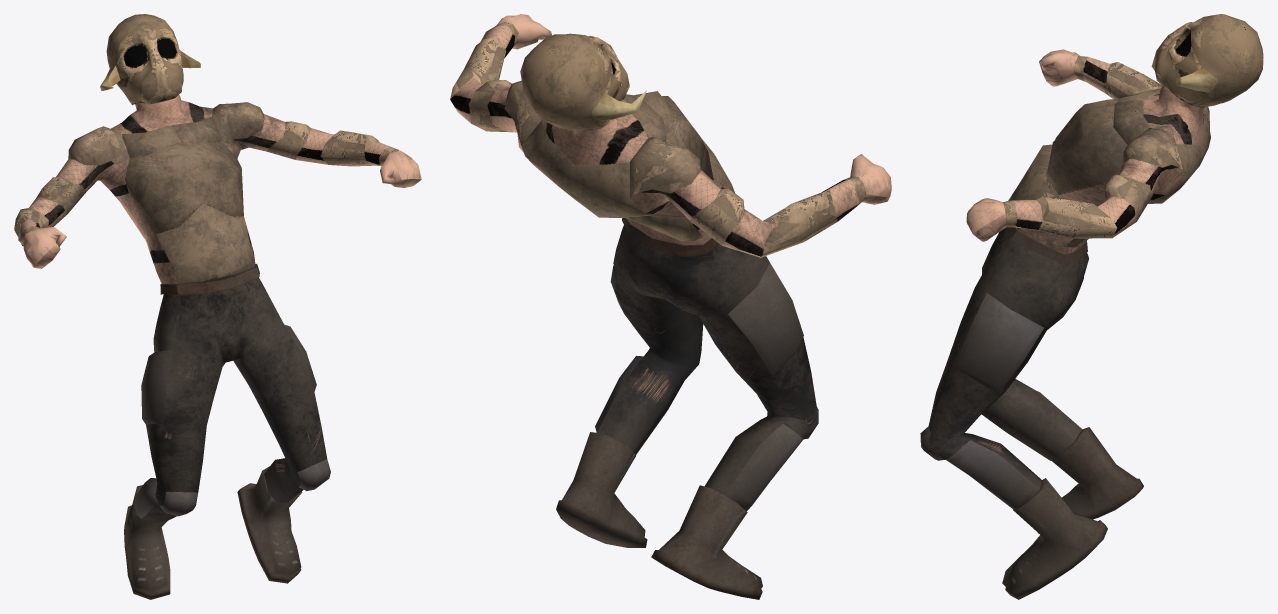
File: Anim_morir_npc1.0017.obj
The picture shows the model from 3 angles, left to right: view 1: azimuth 30°, elevation 25°; view 2: azimuth 150°, elevation 25°; view 3: azimuth 270°, elevation 25°; orthographic projection. The views are drawn at different scales.
Parts seen in each view (by area): view 1: NPC2; view 2: NPC2; view 3: NPC2.
Boxes of the visible parts, x1,y1,x2,y2 form: NPC2: [14, 14, 421, 599]; NPC2: [450, 14, 891, 599]; NPC2: [920, 14, 1263, 599].
Size of the model in its own units: 5.95 by 8.06 by 4.52.
